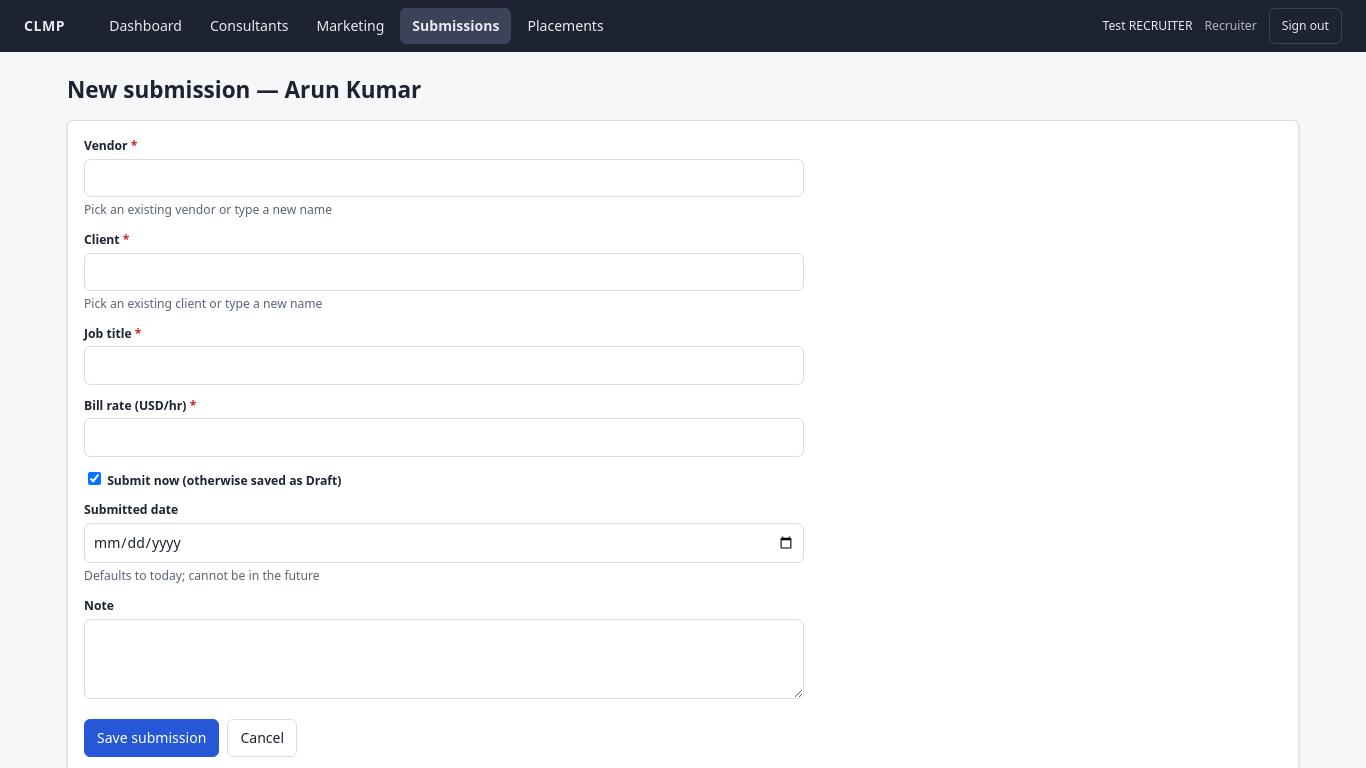
Test: Submission duplicate warning › lists the duplicates; Cancel sends nothing more
Type "Acme Staffing" into the dropdown labelled "Vendor *" at (444, 178), box [84, 159, 804, 197]
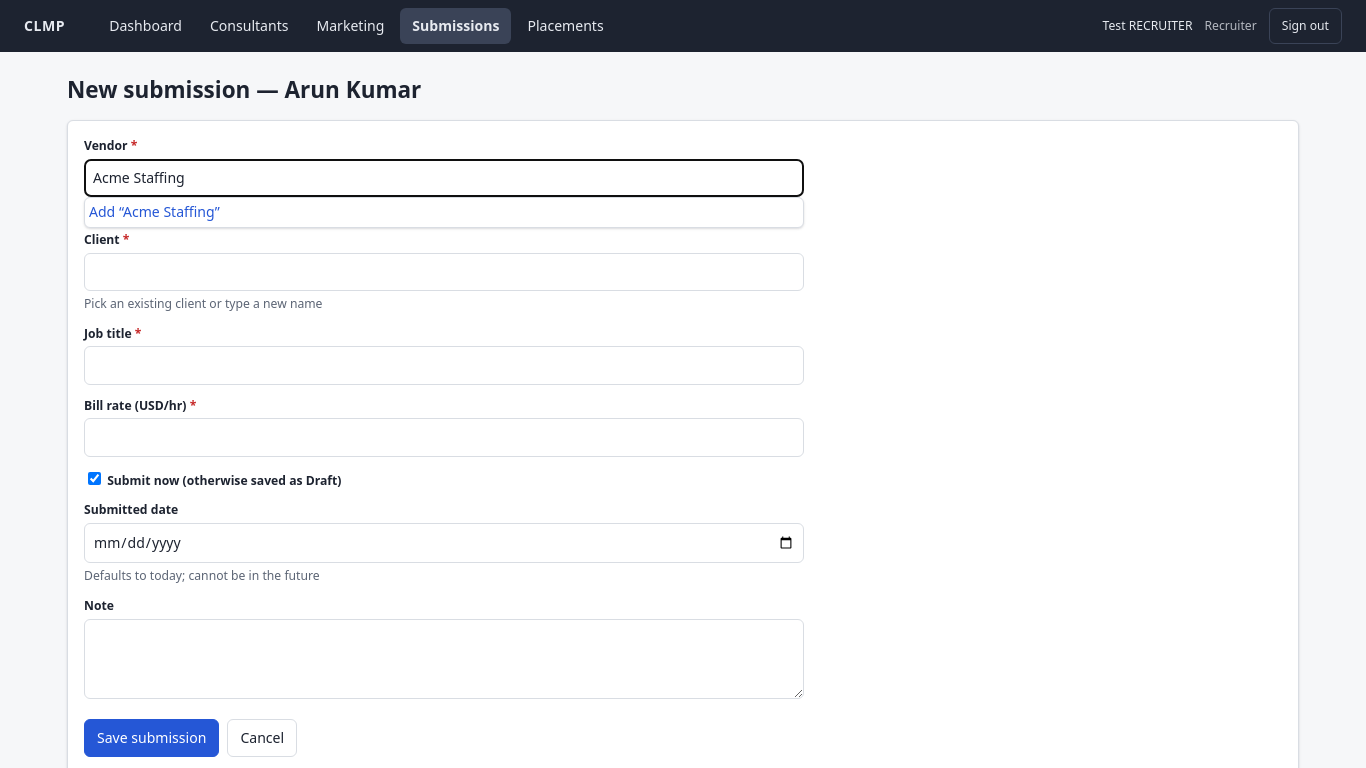
Type "Globex" into the dropdown labelled "Client *" at (444, 272), box [84, 252, 804, 291]
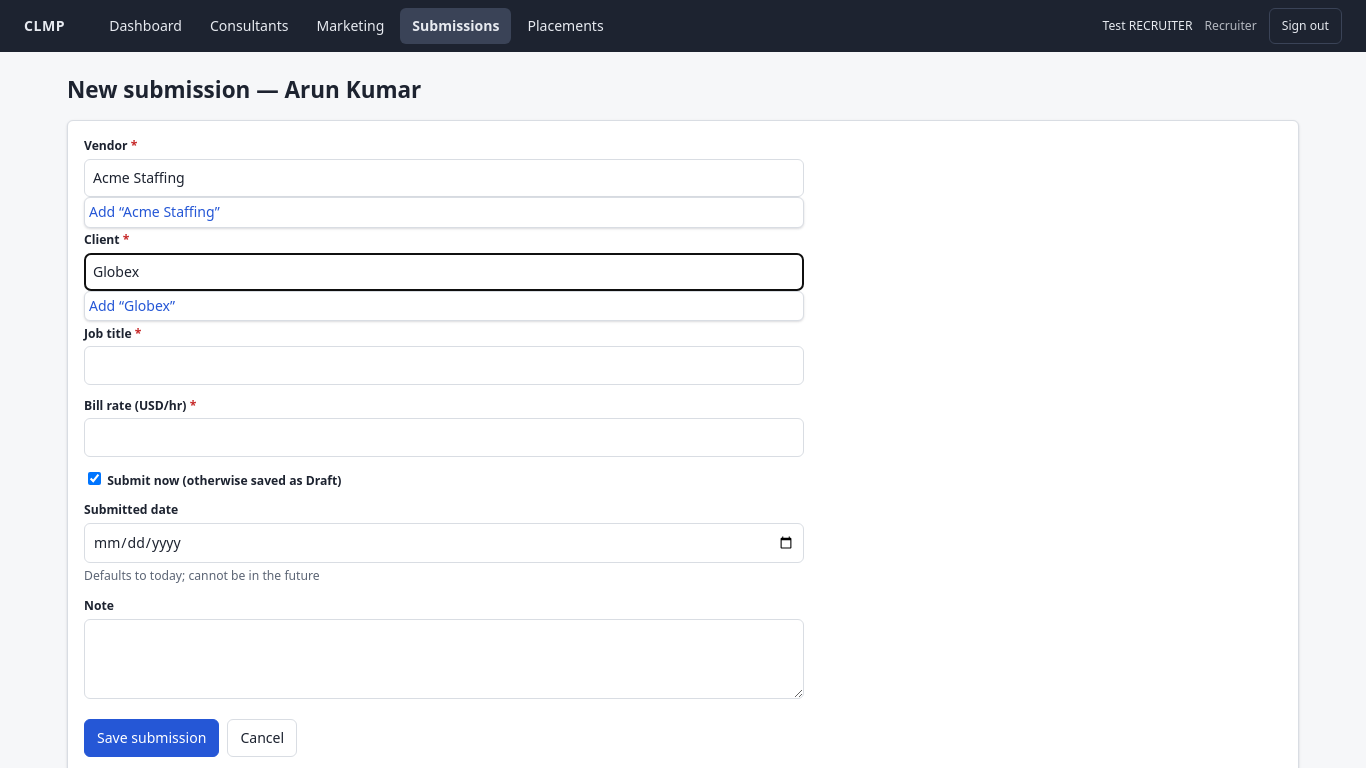
Type "Java Developer" into the field labelled "Job title *" at (444, 366), box [84, 346, 804, 385]
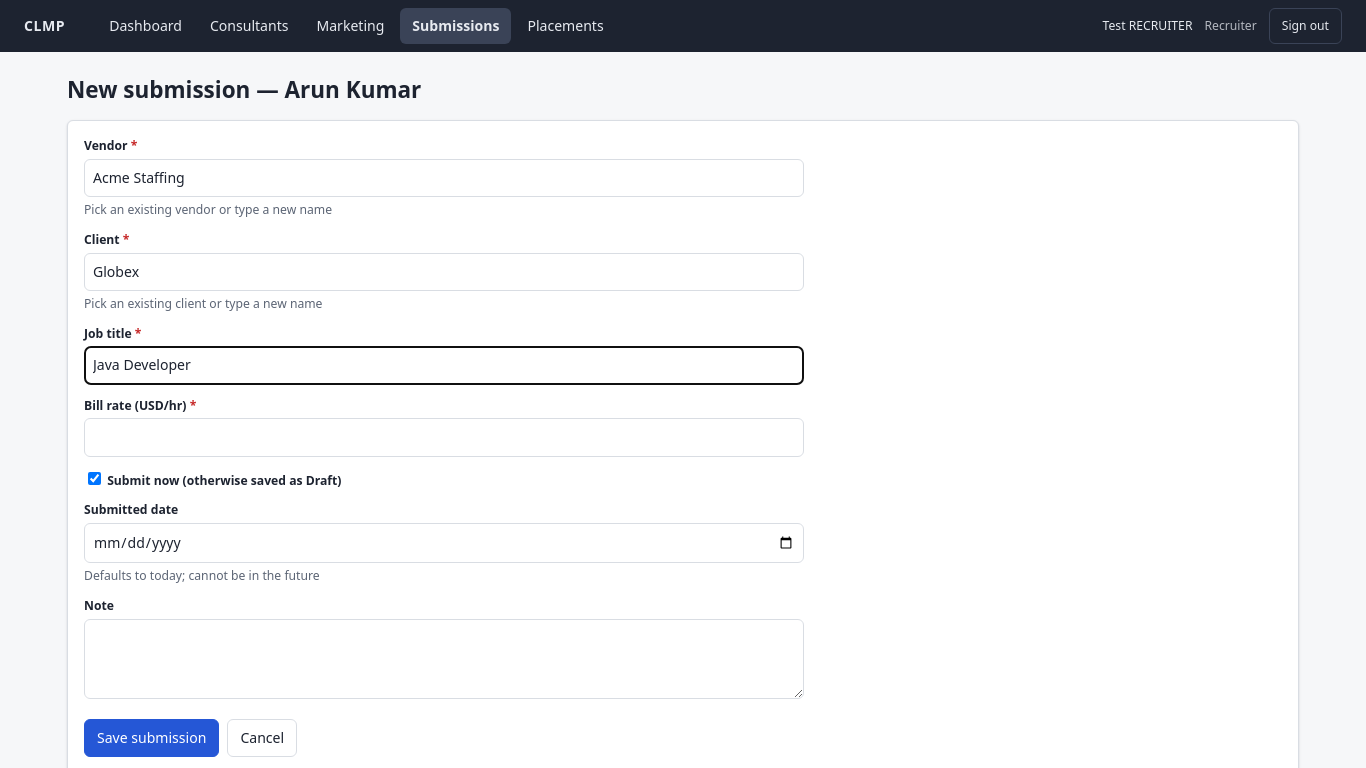
Type "85" into the number field labelled "Bill rate (USD/hr) *" at (444, 438), box [84, 418, 804, 457]
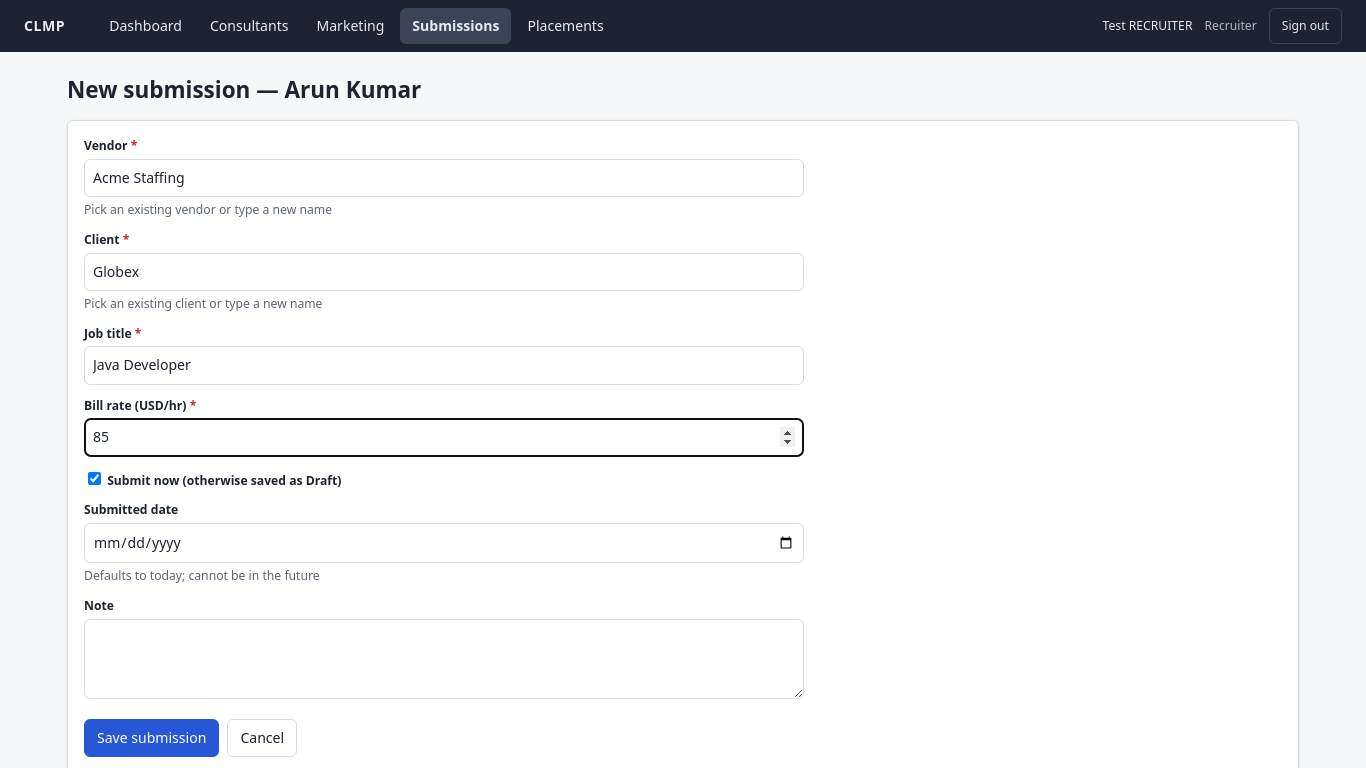
Click the button "Save submission" at (152, 738), box [84, 719, 219, 757]
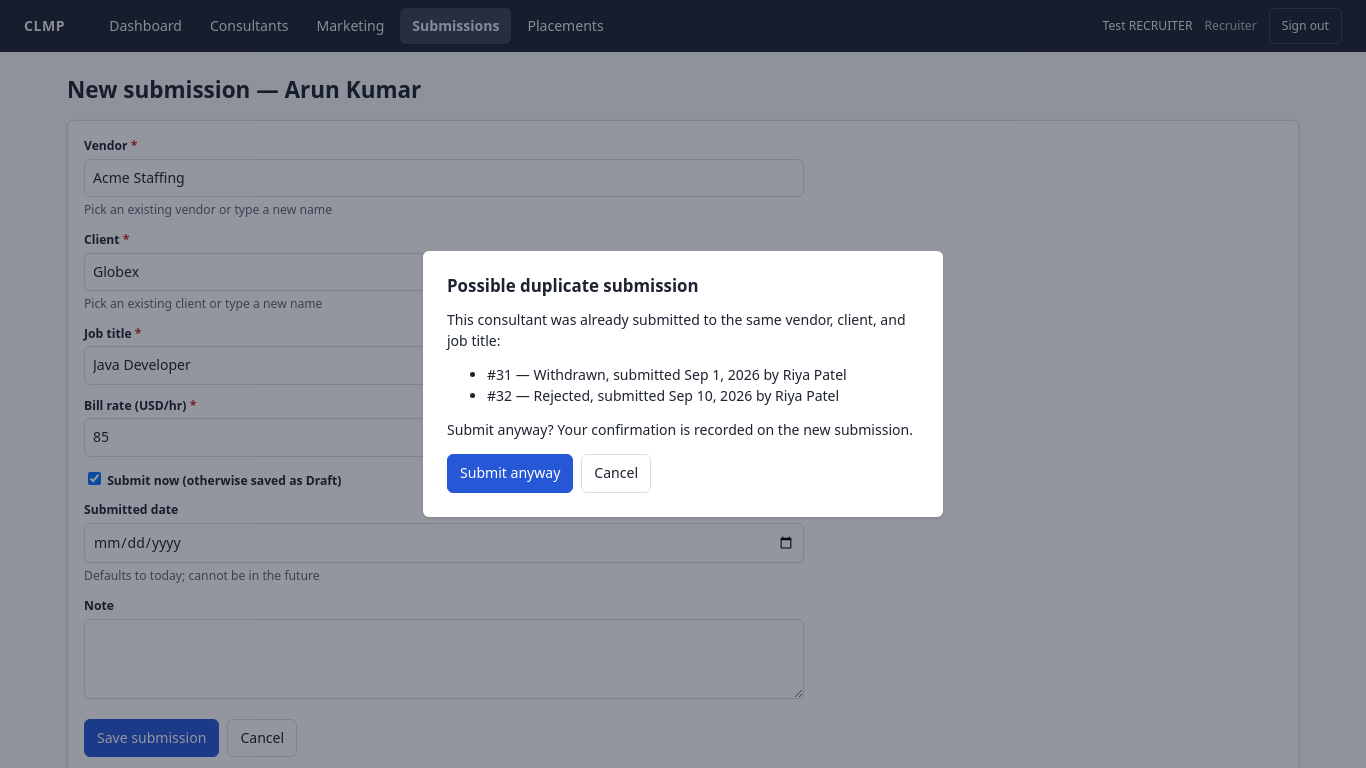
Expected: the list item "#31 — Withdrawn, submitted Sep 1, 2026 by Riya Patel" is shown, [487, 365, 847, 384]
Expected: the list item "#32 — Rejected, submitted Sep 10, 2026 by Riya Patel" is shown, [487, 386, 839, 404]
Click the button "Cancel" at (616, 474), box [581, 454, 651, 493]
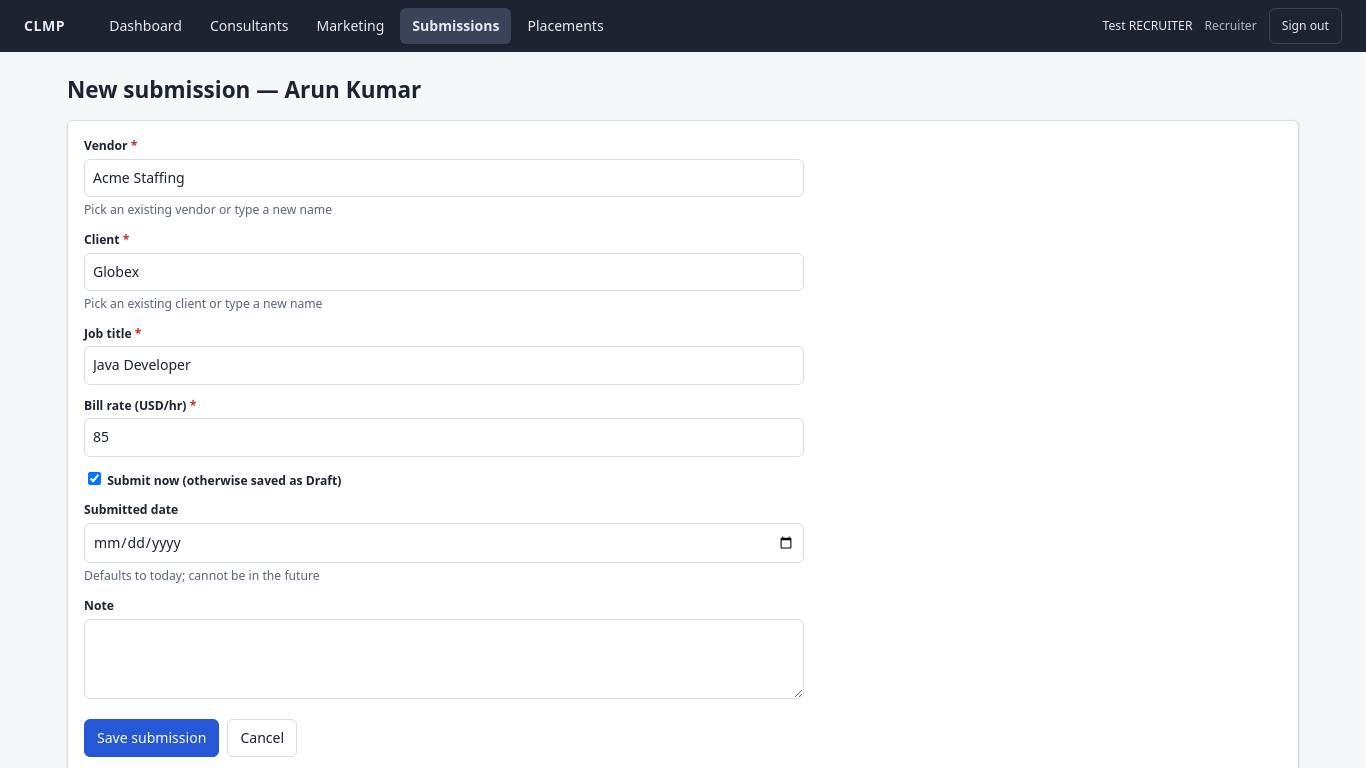
Expected: the dialog is gone
